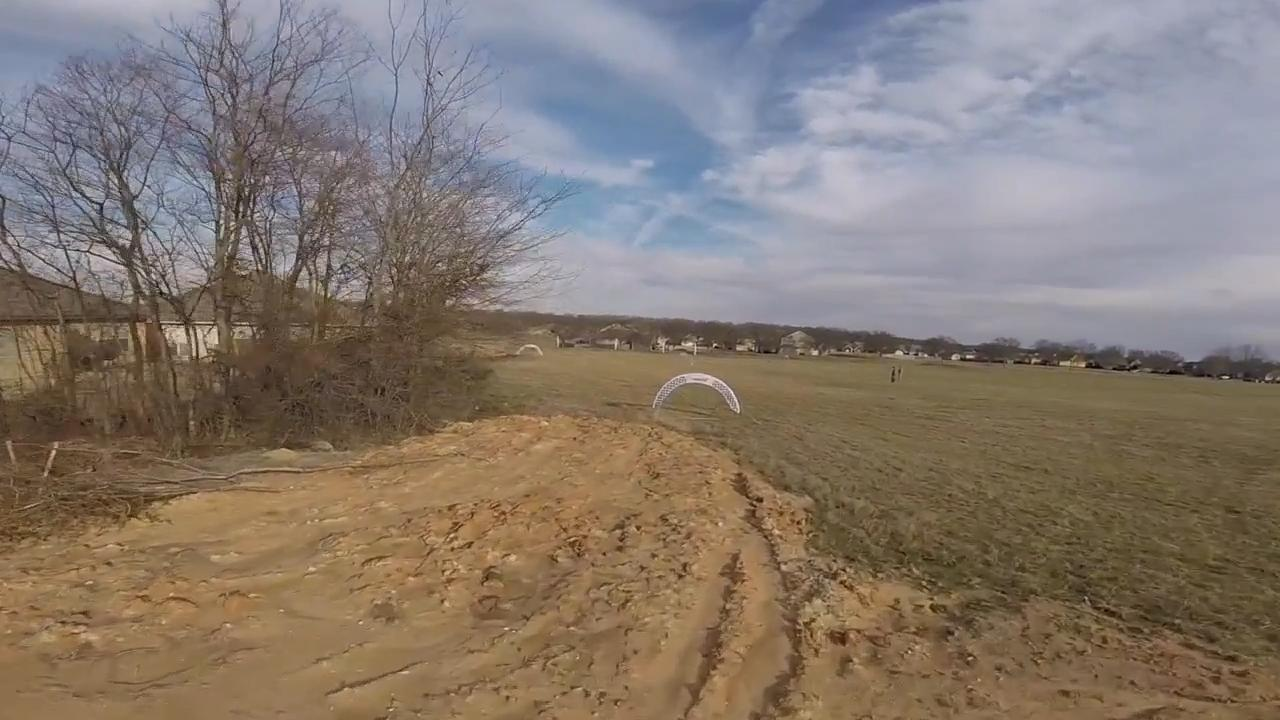gate: (649, 372, 742, 416)
